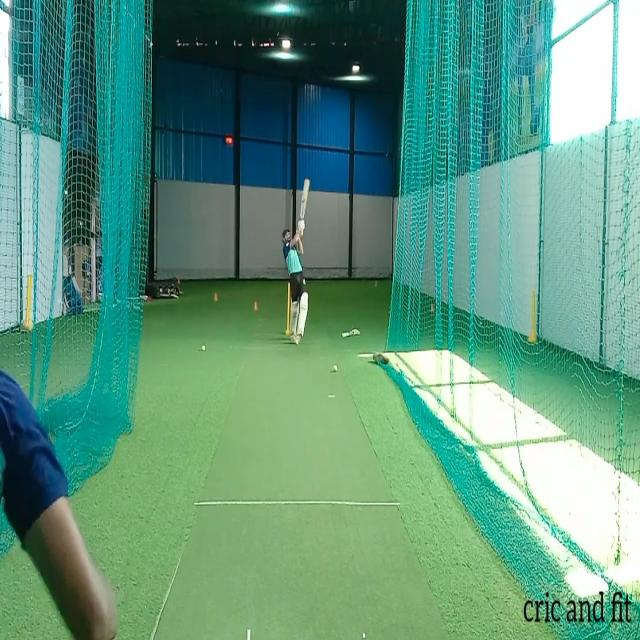batsman: (282, 176, 310, 347)
